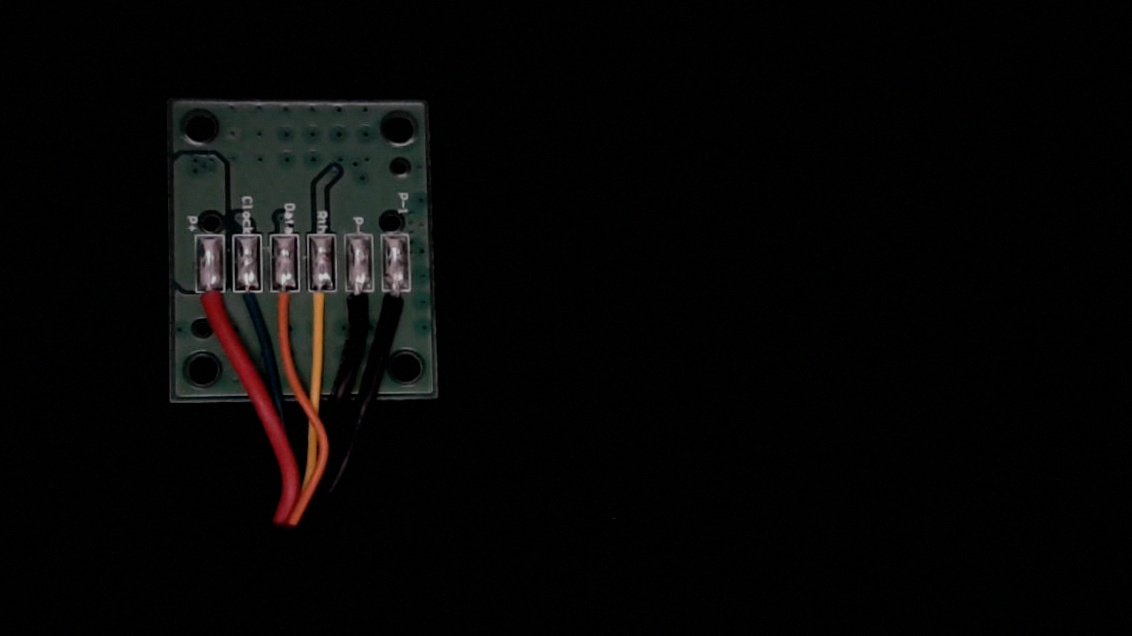Black: (343, 270, 376, 336)
Black1: (380, 270, 412, 332)
Green: (233, 269, 266, 333)
Orange: (270, 270, 301, 336)
Red: (192, 269, 226, 333)
Yellow: (305, 269, 339, 337)
